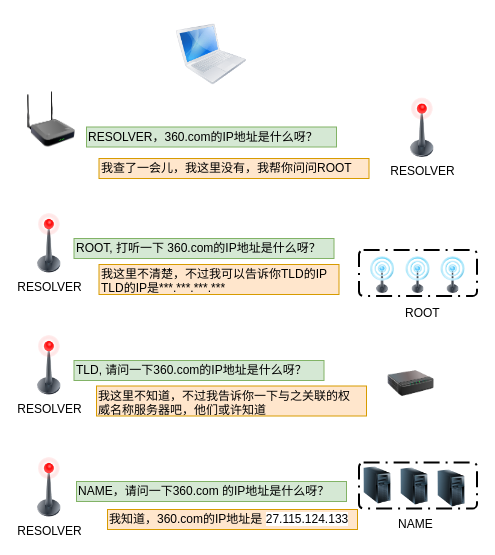
This 495x555 diagram has some shape labels left out. Here are the shapes that lost their labels. From the top down, the centre of each, then its label:
the point at 211,54: 360.com
the point at 411,383: TLD
